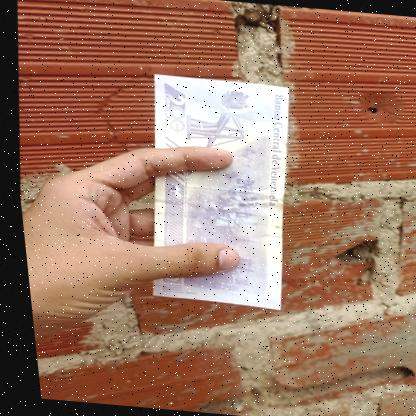two_hundred-back-vef: (127, 73, 306, 312)
